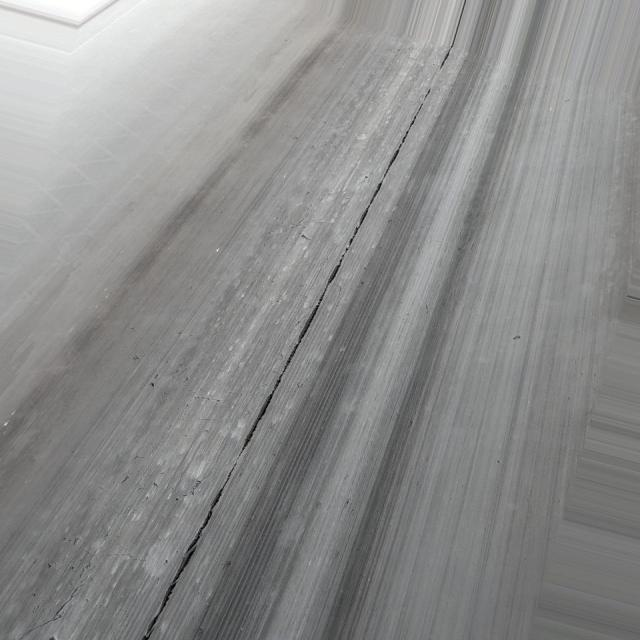Tear: (129, 43, 466, 640)
